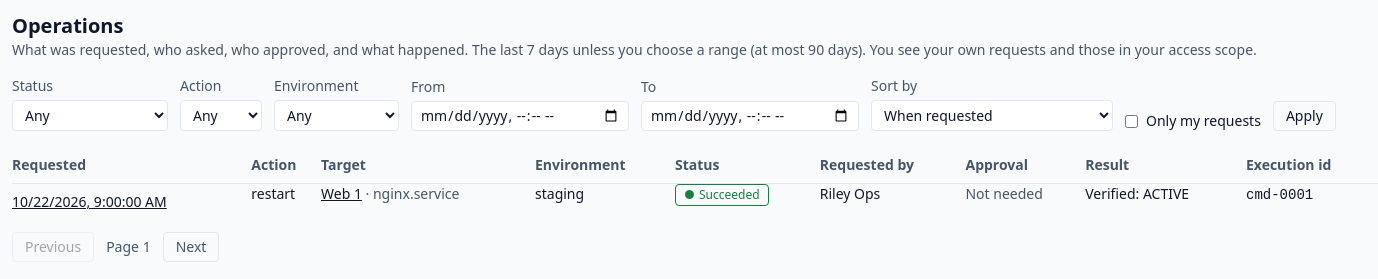
Test case: paging › follows the cursor the backend gave and can go back
expect the text "cmd-0001" is shown: met, box [1246,187,1313,203]
Click the button "Next". click: (191, 247)
box: [163,232,219,262]
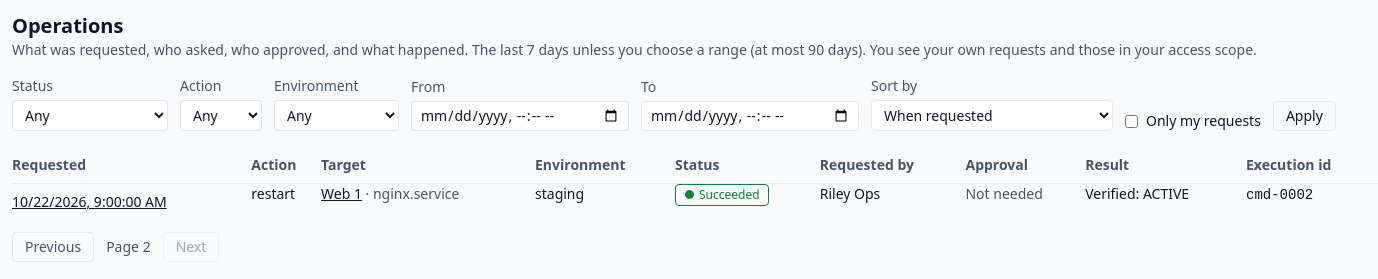
expect the text "cmd-0002" is shown: met, box [1246,187,1313,203]
expect the text "Page 2" is shown: met, box [106,237,151,257]
Click the button "Previous". click: (53, 247)
box: [12,232,94,262]
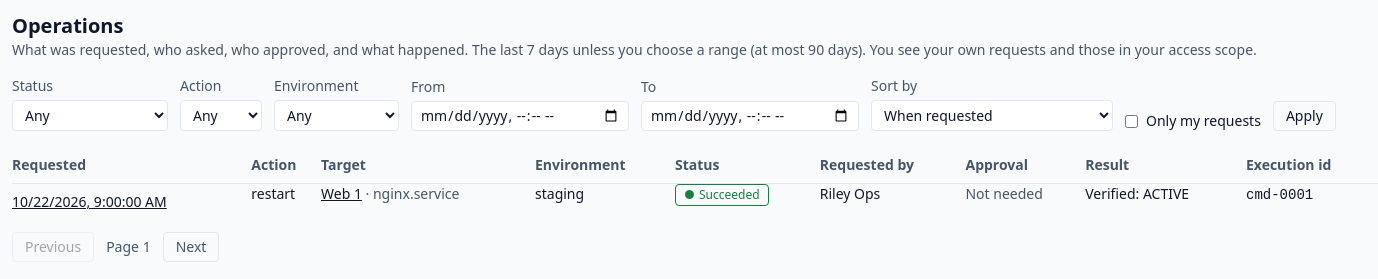
expect the text "cmd-0001" is shown: met, box [1246,187,1313,203]
